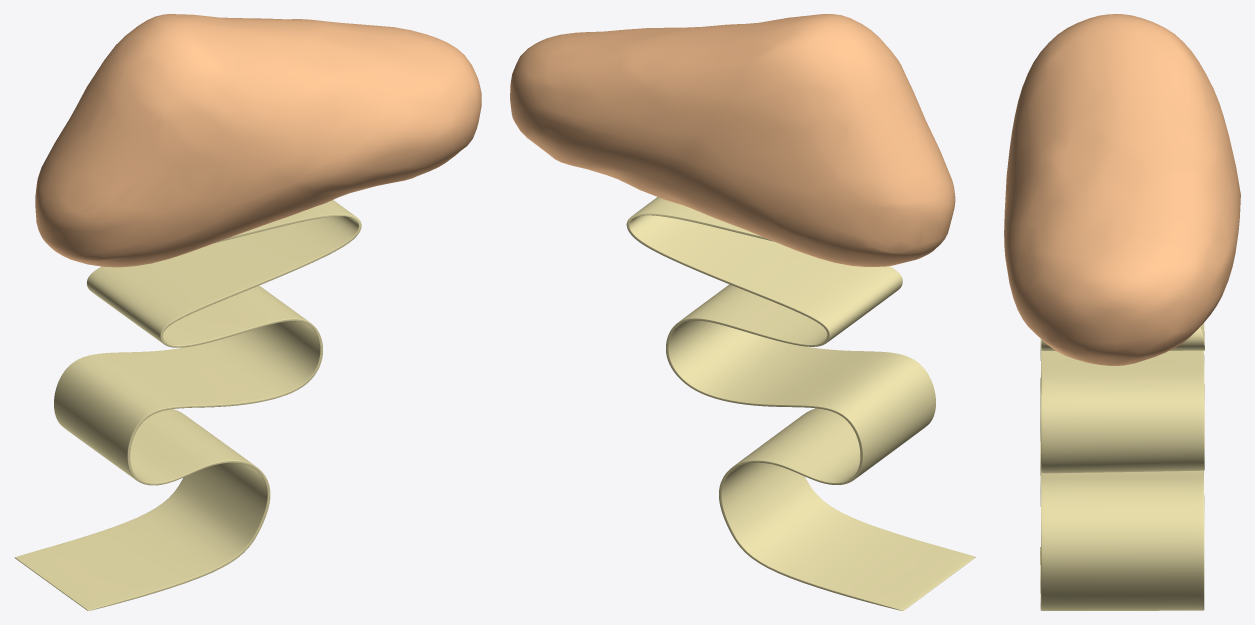
File: sculpture2.glb
The picture shows the model from 3 angles, left to right: view 1: azimuth 30°, elevation 25°; view 2: azimuth 150°, elevation 25°; view 3: azimuth 270°, elevation 25°; orthographic projection. The views are drawn at different scales.
Visible parts, largest first — view 1: piedranaranja, metalmartillo; view 2: piedranaranja, metalmartillo; view 3: piedranaranja, metalmartillo.
Boxes of the visible parts, <box> form: piedranaranja: <box>35,14,481,267</box>; metalmartillo: <box>14,200,361,610</box>; piedranaranja: <box>510,14,955,266</box>; metalmartillo: <box>626,197,975,610</box>; piedranaranja: <box>1004,14,1240,365</box>; metalmartillo: <box>1040,323,1204,610</box>.
Size of the model in its own units: 0.2932 by 0.3499 by 0.127.
